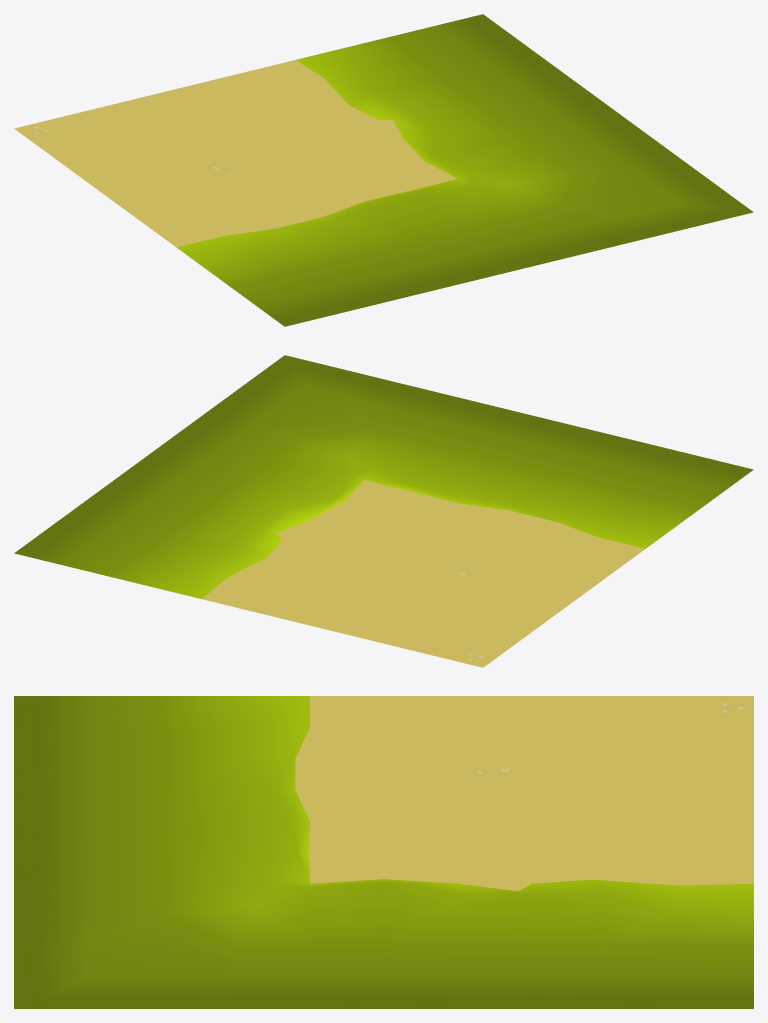
The model's file is Sand_To_Grass_L-Corner.fbx.
3 views of the same model, one above another, from view 1: azimuth 30°, elevation 25°; view 2: azimuth 150°, elevation 25°; view 3: azimuth 270°, elevation 25° (orthographic). The views are drawn at different scales.
Parts seen in each view (by area): view 1: Sand_To_Grass_L-Corner; view 2: Sand_To_Grass_L-Corner; view 3: Sand_To_Grass_L-Corner.
Part boxes in pixels (x1,y1,x2,y2): Sand_To_Grass_L-Corner: (14,14,753,326); Sand_To_Grass_L-Corner: (14,355,753,667); Sand_To_Grass_L-Corner: (14,696,753,1008).
Bounding box in the file's own units: 2000 × 2000 × 17.24.
Materials: 1 (1 with a texture image).
